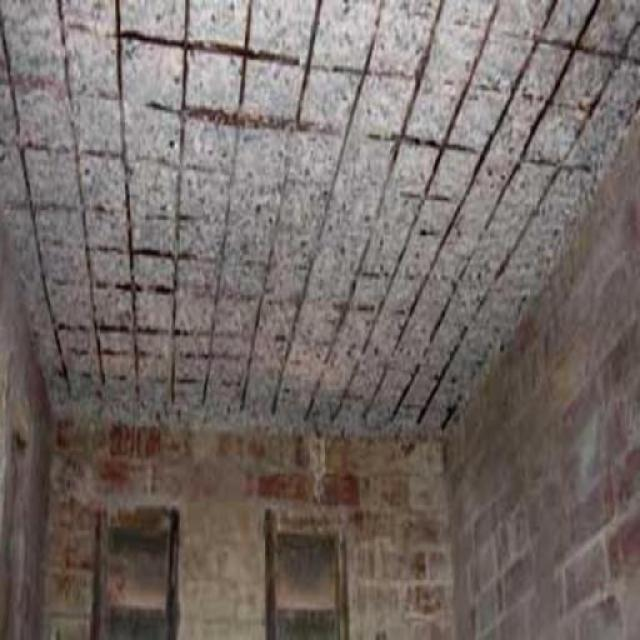D0w0: (0, 0, 639, 428)
